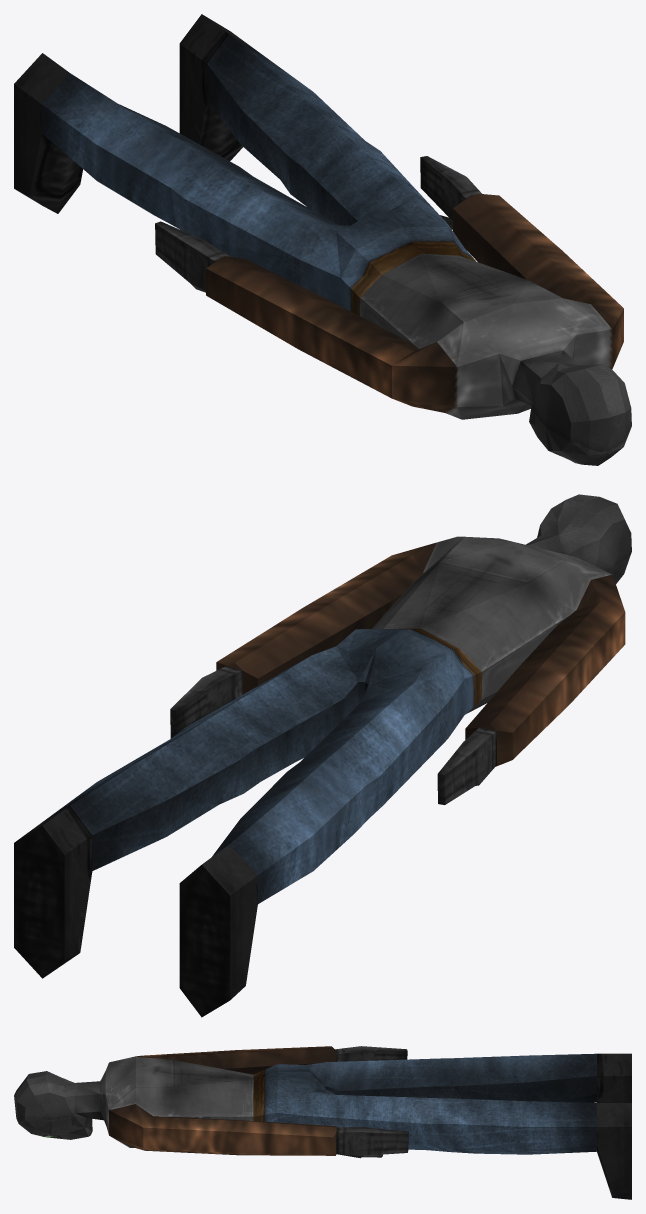
File: terrorist_wtf.obj
The picture shows the model from 3 angles, top to bottom: view 1: azimuth 30°, elevation 25°; view 2: azimuth 150°, elevation 25°; view 3: azimuth 270°, elevation 25°; orthographic projection. The views are drawn at different scales.
Parts seen in each view (by area): view 1: group1; view 2: group1; view 3: group1.
Boxes of the visible parts, x1,y1,x2,y2 form: group1: [14, 14, 631, 465]; group1: [14, 494, 631, 1017]; group1: [14, 1046, 631, 1199].
Size of the model in its own units: 230 by 126 by 660.
